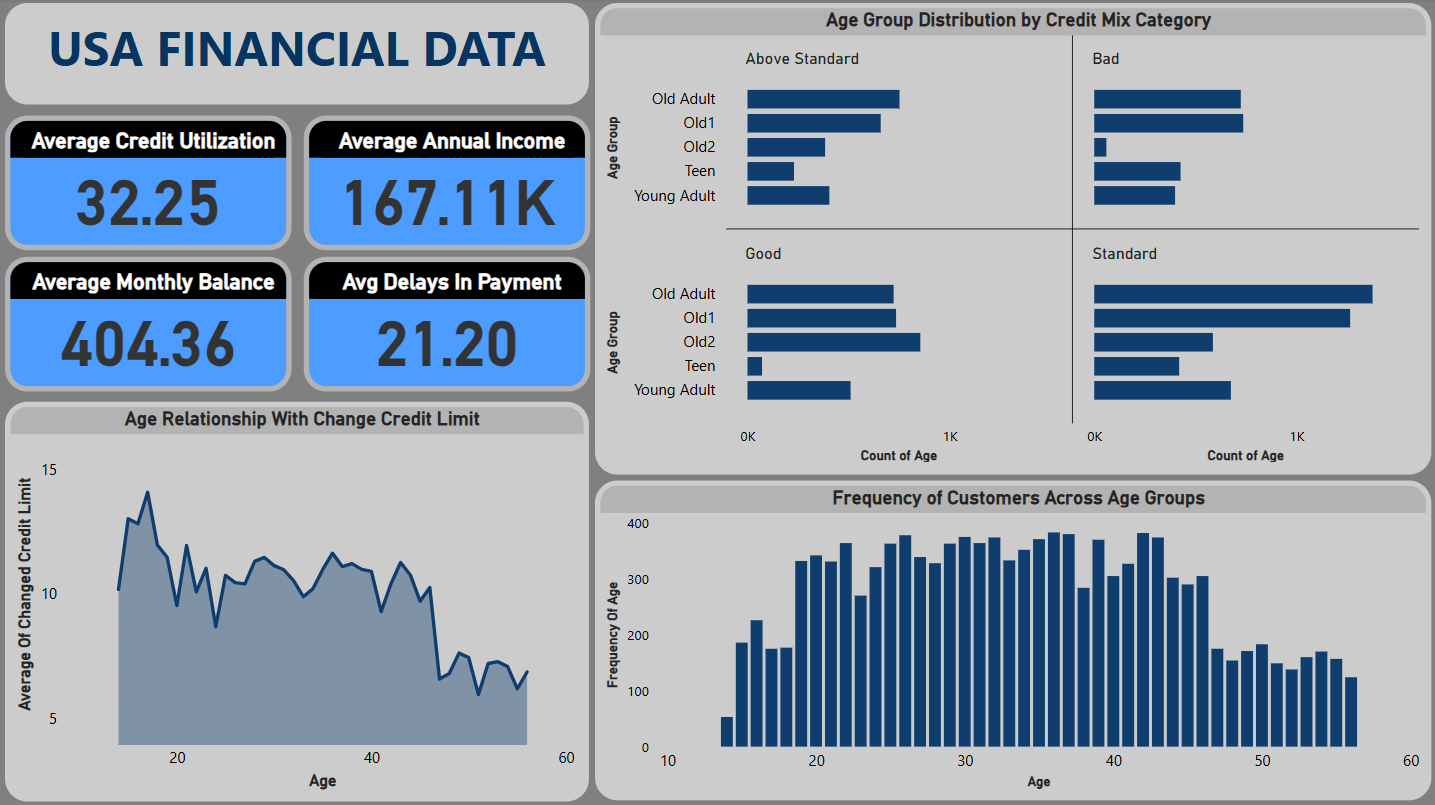

What the dashboard file says about the page in this screenshot:
{"tool":"powerbi","page":{"name":"Page 1","canvas":[1280,720],"ordinal":0},"visuals":[{"type":"card","title":"Average Annual Income","fields":{"Values":["Avg(combined_df.Annual_Income)"]},"box":[270.2,105,255,120],"z":0},{"type":"card","title":"Average Monthly Balance","fields":{"Values":["Avg(combined_df.Monthly_Balance)"]},"box":[5,230,255,120],"z":1000},{"type":"card","title":"Avg Delays In Payment","fields":{"Values":["Avg(combined_df.Delay_from_due_date)"]},"box":[270.2,230,255,120],"z":2000},{"type":"card","title":"Average Credit Utilization","fields":{"Values":["Avg(combined_df.Credit_Utilization_Ratio)"]},"box":[5,105,255,120],"z":3000},{"type":"lineChart","title":"Age Relationship With Change Credit Limit ","fields":{"Category":["combined_df.Age"],"Y":["Avg(combined_df.Changed_Credit_Limit)"]},"box":[5,360,520,355.9],"z":4000},{"type":"clusteredColumnChart","title":"Frequency of Customers Across Age Groups","fields":{"Category":["combined_df.Age"],"Y":["CountNonNull(combined_df.Age)"]},"box":[530,430,745,285],"z":5000},{"type":"clusteredBarChart","title":"Age Group Distribution by Credit Mix Category","fields":{"Rows":["combined_df.Credit_Mix"],"Category":["combined_df.Age Group"],"Y":["CountNonNull(combined_df.Age)"]},"box":[530,5,745,420],"z":6000},{"type":"textbox","box":[5,5,520,90.5],"z":7000}]}

Visuals, with their boxes in screenshot pixels (x1, y1, x2, y2), scaled from the page's 1280x720 canvas onto the 1435x805 screenshot:
"Average Annual Income" card: pyautogui.locateOnScreen(303, 117, 589, 252)
"Average Monthly Balance" card: pyautogui.locateOnScreen(6, 257, 291, 391)
"Avg Delays In Payment" card: pyautogui.locateOnScreen(303, 257, 589, 391)
"Average Credit Utilization" card: pyautogui.locateOnScreen(6, 117, 291, 252)
"Age Relationship With Change Credit Limit " lineChart: pyautogui.locateOnScreen(6, 402, 589, 800)
"Frequency of Customers Across Age Groups" clusteredColumnChart: pyautogui.locateOnScreen(594, 481, 1429, 799)
"Age Group Distribution by Credit Mix Category" clusteredBarChart: pyautogui.locateOnScreen(594, 6, 1429, 475)
textbox: pyautogui.locateOnScreen(6, 6, 589, 107)
